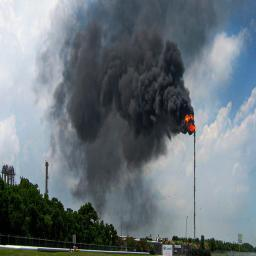fire: (185, 114, 196, 135)
smoke: (29, 0, 255, 234)
